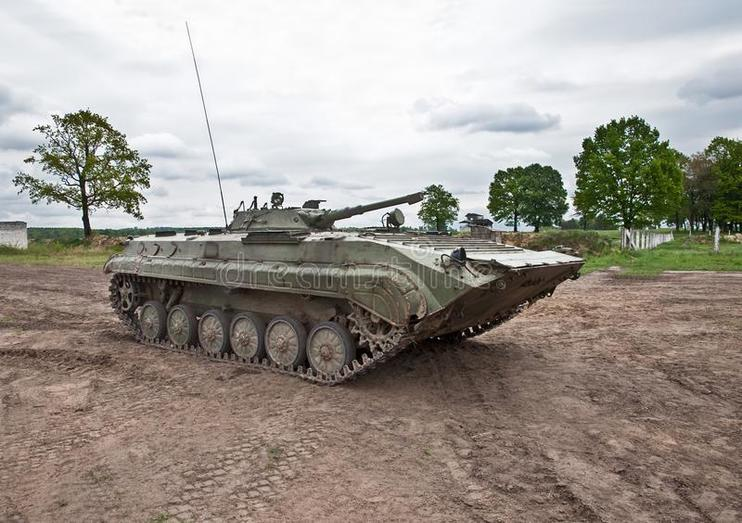bmp: (108, 193, 587, 382)
